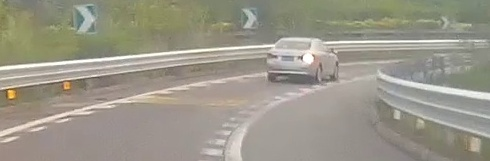L_light: (266, 53, 277, 59)
R_light: (298, 55, 314, 61)
T_light: (290, 40, 297, 43)
day-right: (266, 37, 317, 83)
